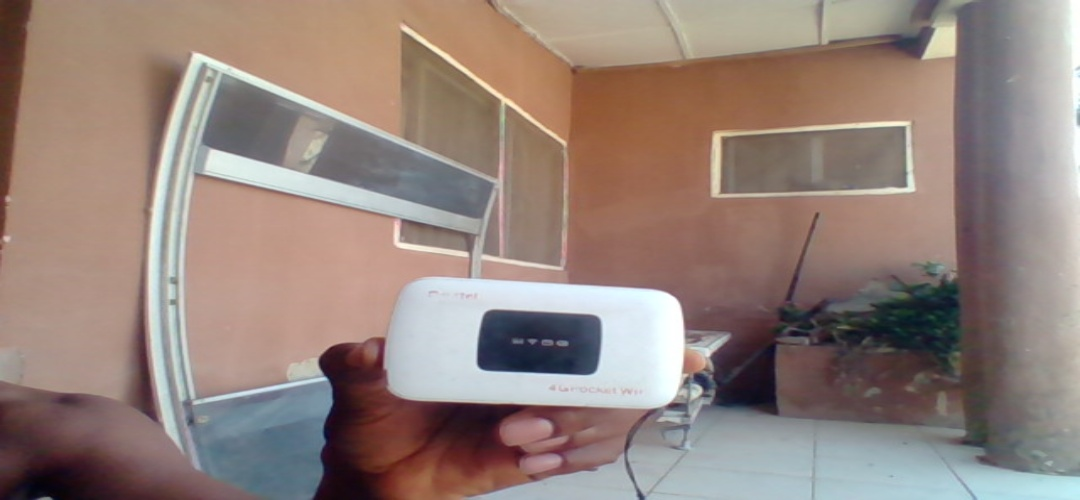mifi: (387, 275, 683, 414)
